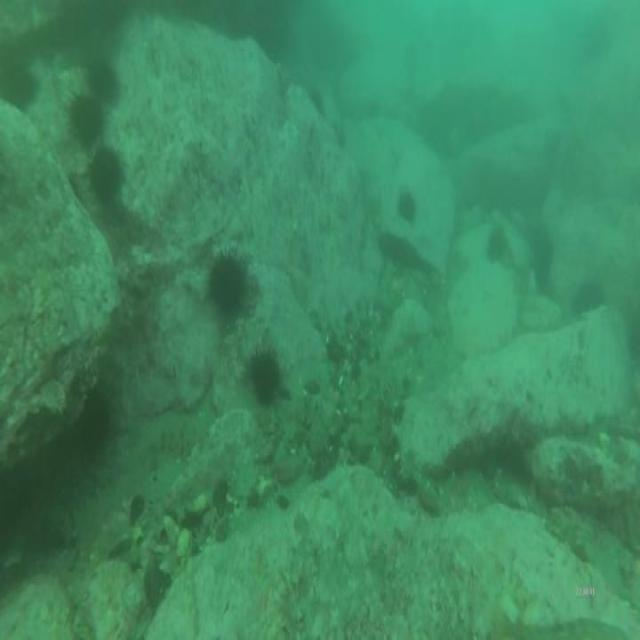echinus: (0, 50, 44, 121), (208, 248, 249, 315), (86, 142, 124, 209), (74, 389, 114, 449), (247, 344, 282, 410), (66, 90, 106, 147), (84, 54, 120, 107), (572, 276, 604, 318), (484, 221, 506, 267), (395, 183, 417, 226)
holothurian: (85, 551, 149, 640), (14, 566, 78, 635), (268, 561, 310, 640), (180, 556, 202, 640)
